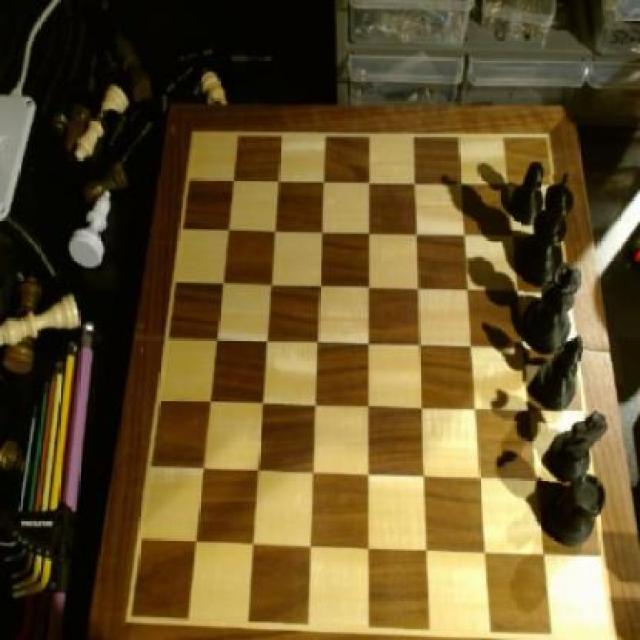bishop: (534, 336, 590, 416)
black-bishop: (520, 175, 579, 288)
black-king: (550, 412, 612, 483)
black-knight: (514, 158, 549, 222)
black-pawn: (525, 266, 583, 356)
black-queen: (552, 477, 606, 551)
